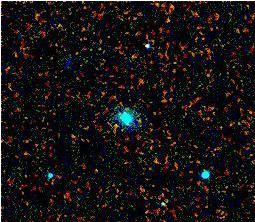star: (102, 110, 132, 140)
